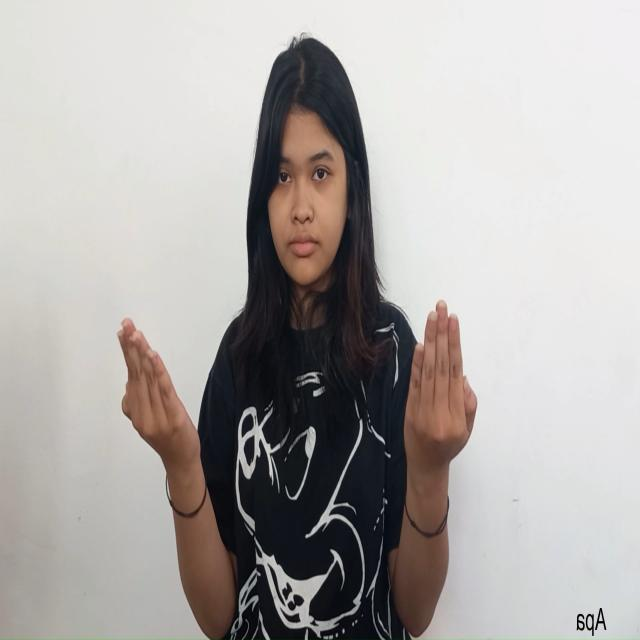Apa -BISINDO-: (115, 296, 480, 478)
